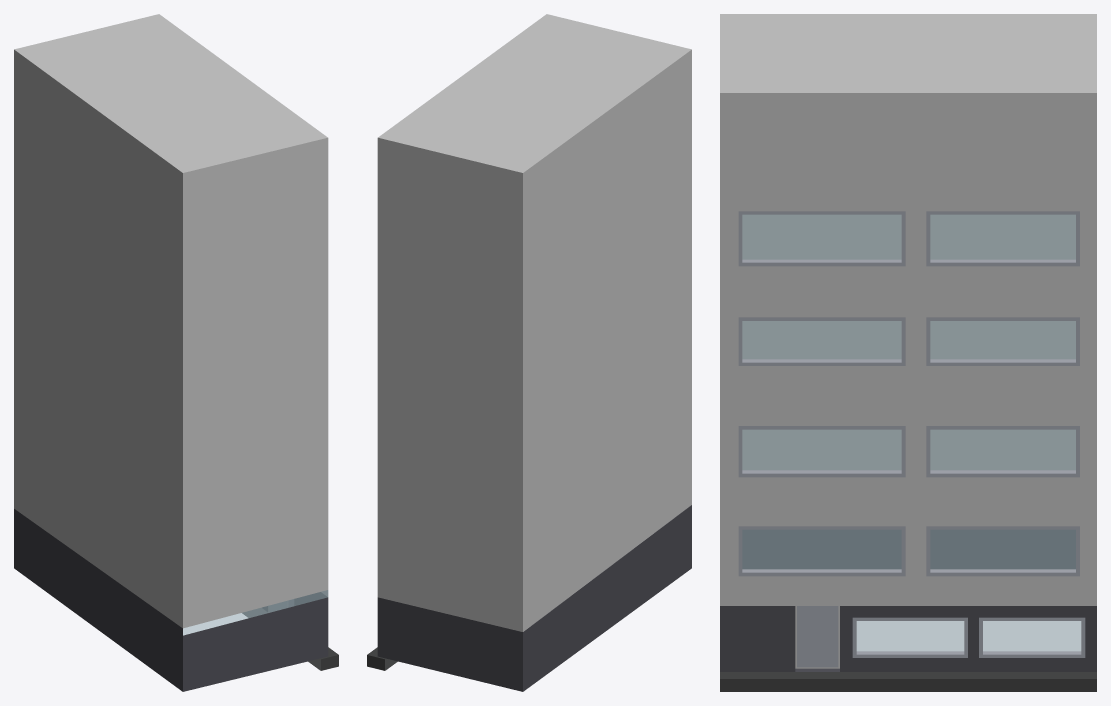
File: Uni_Back_Building.fbx
The picture shows the model from 3 angles, left to right: view 1: azimuth 30°, elevation 25°; view 2: azimuth 150°, elevation 25°; view 3: azimuth 270°, elevation 25°; orthographic projection. The views are drawn at different scales.
Visible parts, largest first — view 1: Uni_back_building; view 2: Uni_back_building; view 3: Uni_back_building.
Boxes of the visible parts, left/top/right/bottom form: Uni_back_building: left=14, top=14, right=338, bottom=691; Uni_back_building: left=367, top=14, right=691, bottom=691; Uni_back_building: left=720, top=14, right=1096, bottom=691.
Bounding box in the file's own units: 26.02 × 84.71 × 48.8.
